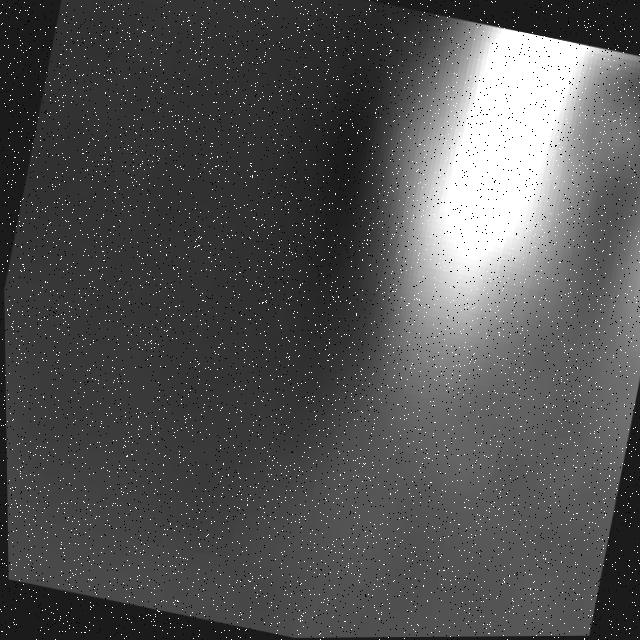person: (337, 10, 633, 416), (581, 63, 640, 481)
